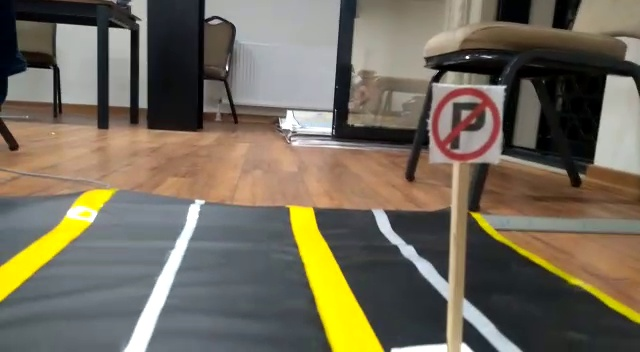park_yapilmaz: (425, 84, 502, 161)
